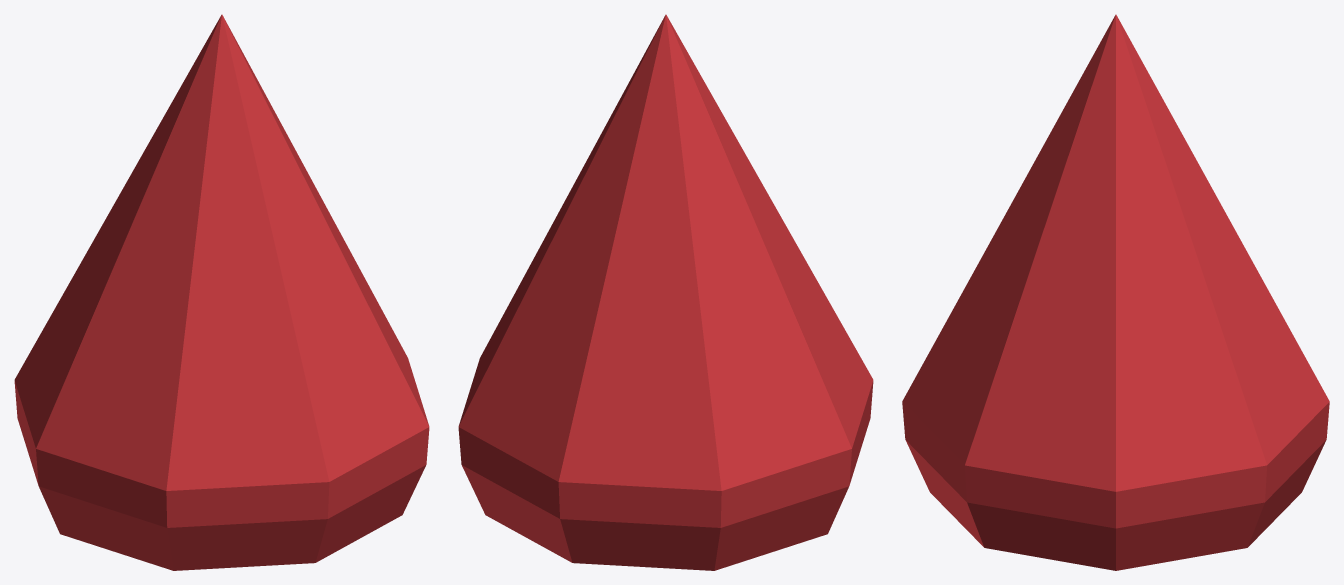
The model's file is Head.fbx.
The picture shows the model from 3 angles, left to right: view 1: azimuth 30°, elevation 25°; view 2: azimuth 150°, elevation 25°; view 3: azimuth 270°, elevation 25°; orthographic projection.
Visible parts, largest first — view 1: Head; view 2: Head; view 3: Head.
Part boxes in pixels (left/top/right/bottom): Head: left=14, top=14, right=429, bottom=570; Head: left=458, top=14, right=873, bottom=570; Head: left=902, top=14, right=1329, bottom=570.
Size of the model in its own units: 169 by 209 by 169.
